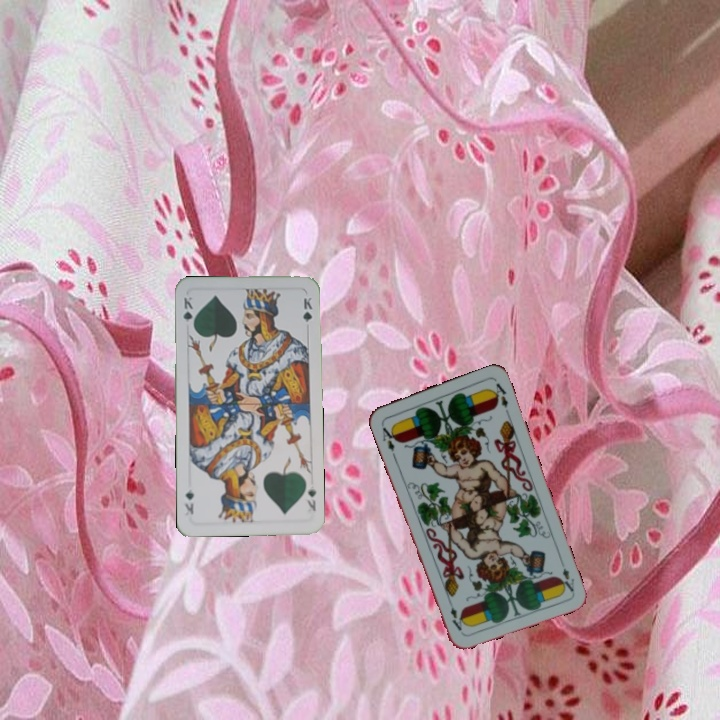EA: (556, 556, 577, 594), (377, 419, 399, 454)
GK: (179, 293, 196, 332), (301, 482, 318, 513)
